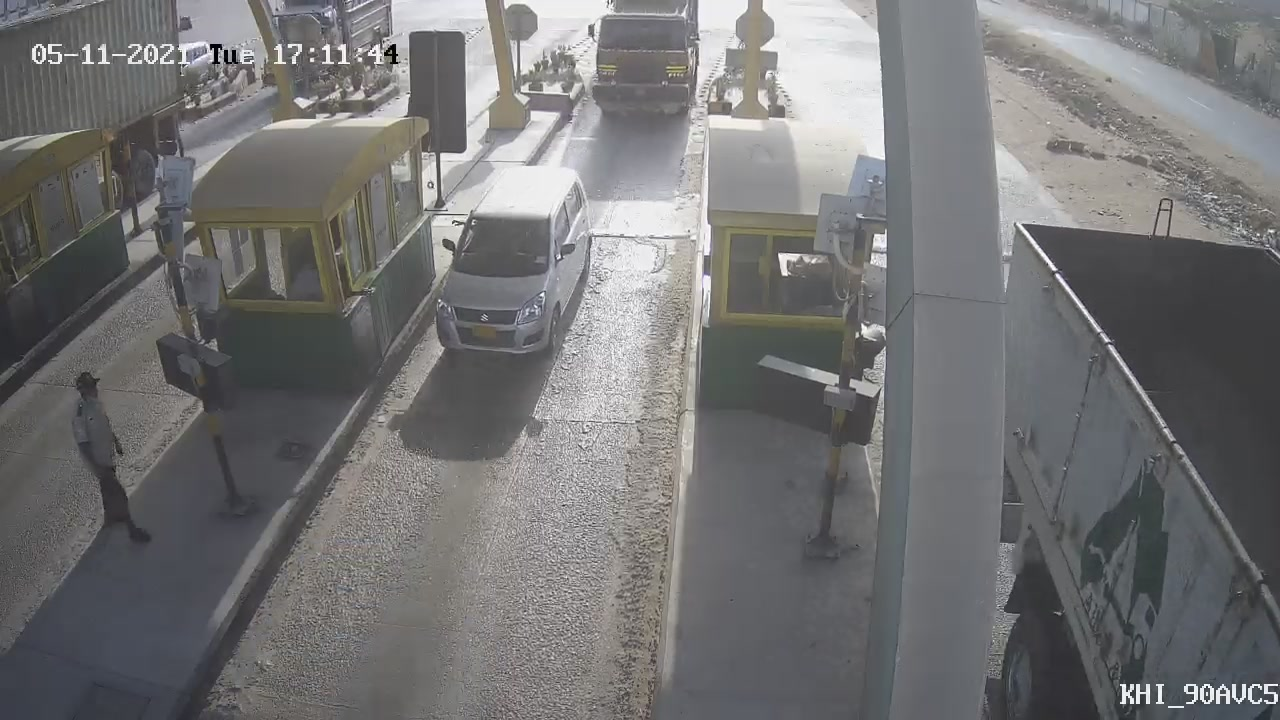F1: (417, 149, 611, 375)
